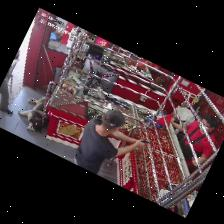person: (74, 110, 143, 173), (185, 121, 212, 163), (0, 78, 12, 113)
